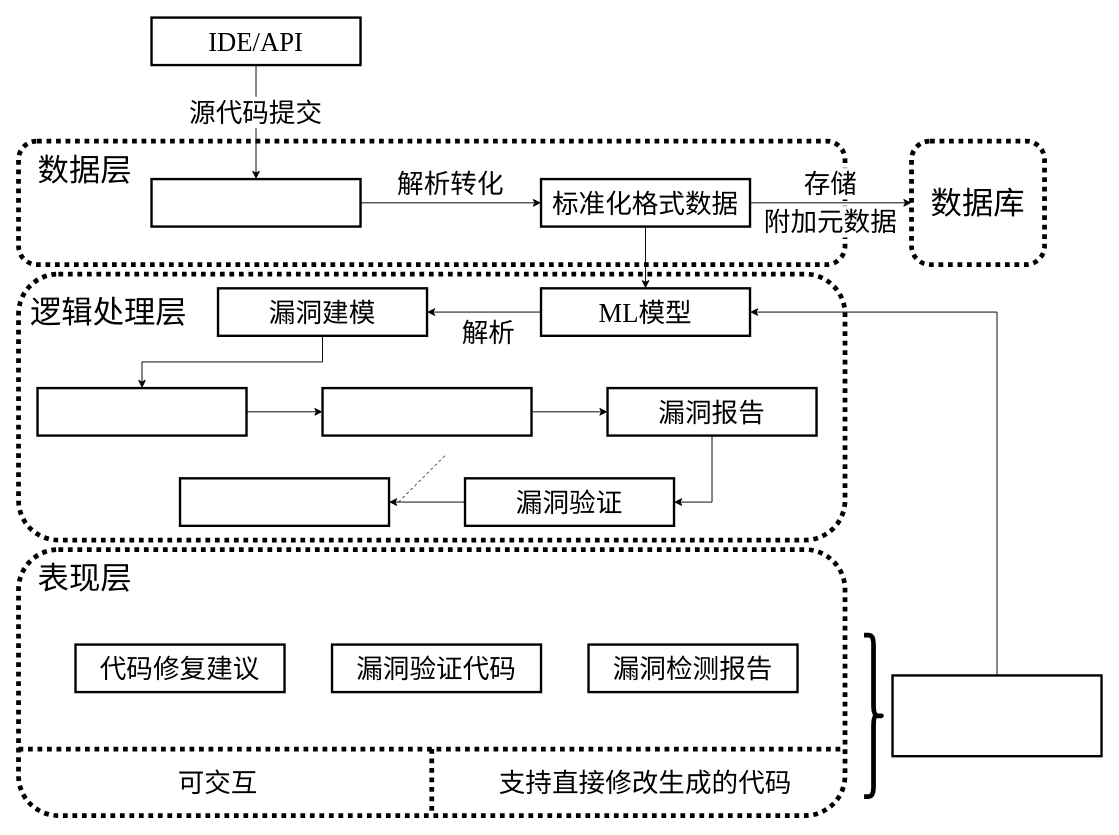
Some shapes in this 1119 by 835 pixel diagram are drawn without their labels. Here are the shapes that lost their labels. From the top down, the centre of each, then its label:
At pixel 255 202: "Java、C++分析".
At pixel 141 411: "漏洞分析".
At pixel 426 411: "漏洞测试".
At pixel 284 502: "自动化修复策略".
At pixel 996 715: "反馈学习参数给上一层模型".
